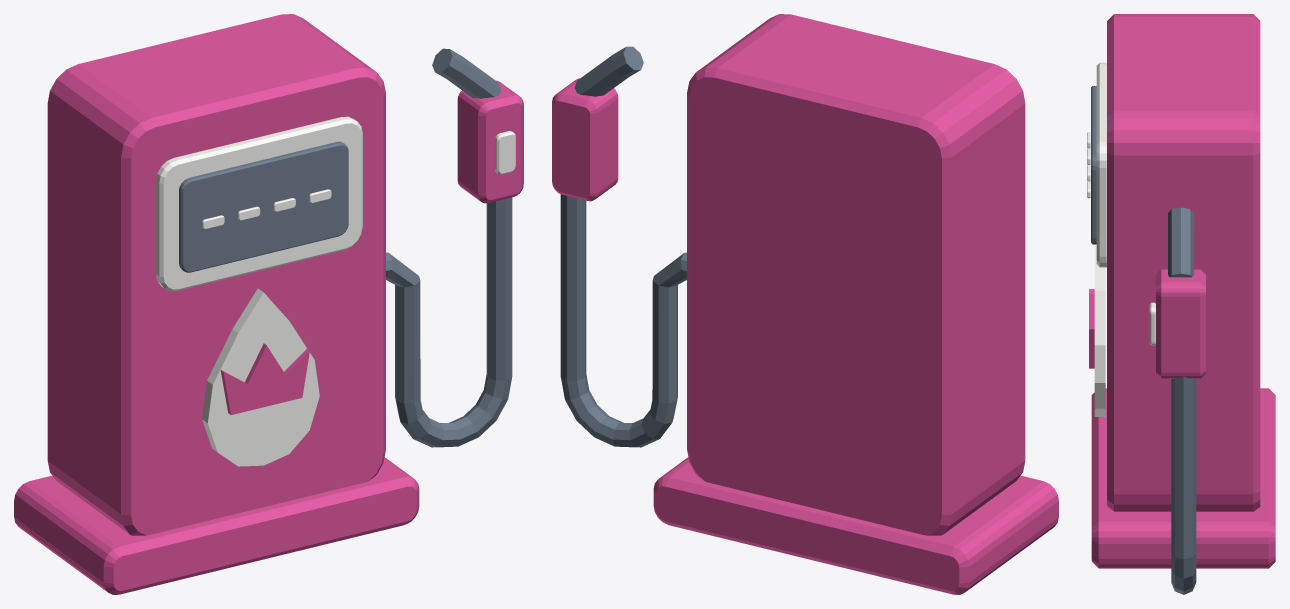
File: gasoline_premium.glb
The picture shows the model from 3 angles, left to right: view 1: azimuth 30°, elevation 25°; view 2: azimuth 150°, elevation 25°; view 3: azimuth 270°, elevation 25°; orthographic projection. The views are drawn at different scales.
Parts seen in each view (by area): view 1: gasoline_premium; view 2: gasoline_premium; view 3: gasoline_premium.
Part boxes in pixels (x1=…): gasoline_premium: x1=14, y1=14, x2=523, y2=594; gasoline_premium: x1=552, y1=14, x2=1058, y2=594; gasoline_premium: x1=1087, y1=14, x2=1275, y2=594.
Bounding box in the file's own units: 1.78 × 1.73 × 0.676.
